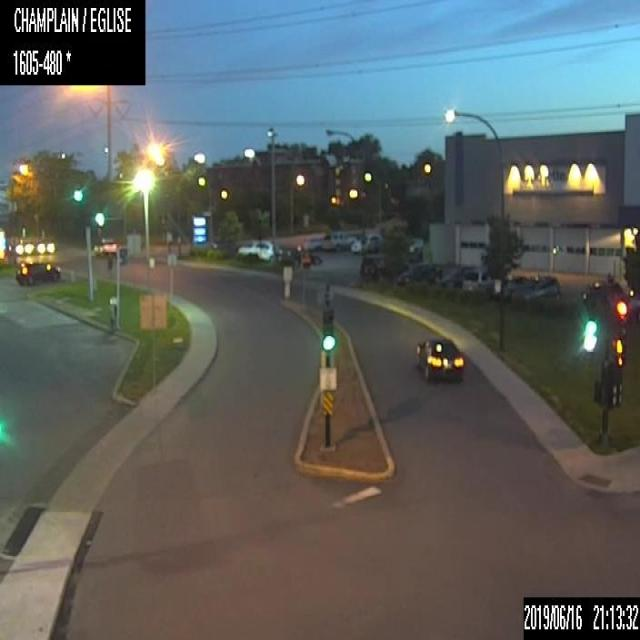pedestrian: (106, 256, 112, 276)
vehicle: (416, 339, 464, 377), (510, 273, 560, 301), (359, 255, 408, 280), (582, 278, 622, 305), (15, 260, 60, 284), (395, 262, 442, 284), (491, 275, 532, 300), (435, 264, 476, 288), (238, 238, 278, 261), (270, 244, 310, 267), (462, 266, 493, 291), (614, 288, 639, 316), (322, 232, 356, 252), (350, 233, 382, 252), (210, 234, 237, 252), (303, 232, 324, 250), (94, 238, 116, 255), (35, 236, 57, 253), (16, 238, 34, 255), (408, 237, 422, 257)
